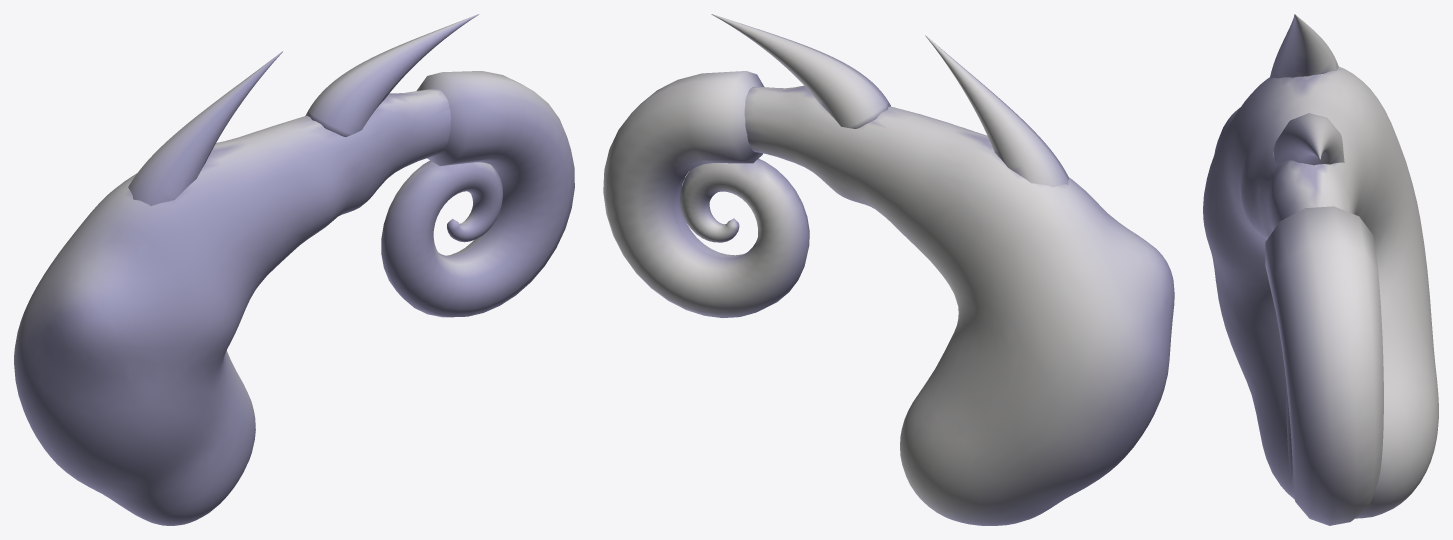
File: gear5_corrente_a.fbx
The picture shows the model from 3 angles, left to right: view 1: azimuth 30°, elevation 25°; view 2: azimuth 150°, elevation 25°; view 3: azimuth 270°, elevation 25°; orthographic projection. The views are drawn at different scales.
Visible parts, largest first — view 1: gear5_corrente_a; view 2: gear5_corrente_a; view 3: gear5_corrente_a.
Part boxes in pixels (x1,y1,x2,y2): gear5_corrente_a: [14, 14, 574, 525]; gear5_corrente_a: [603, 14, 1174, 525]; gear5_corrente_a: [1203, 14, 1438, 525].
Size of the model in its own units: 5.43 by 4.29 by 1.69.
